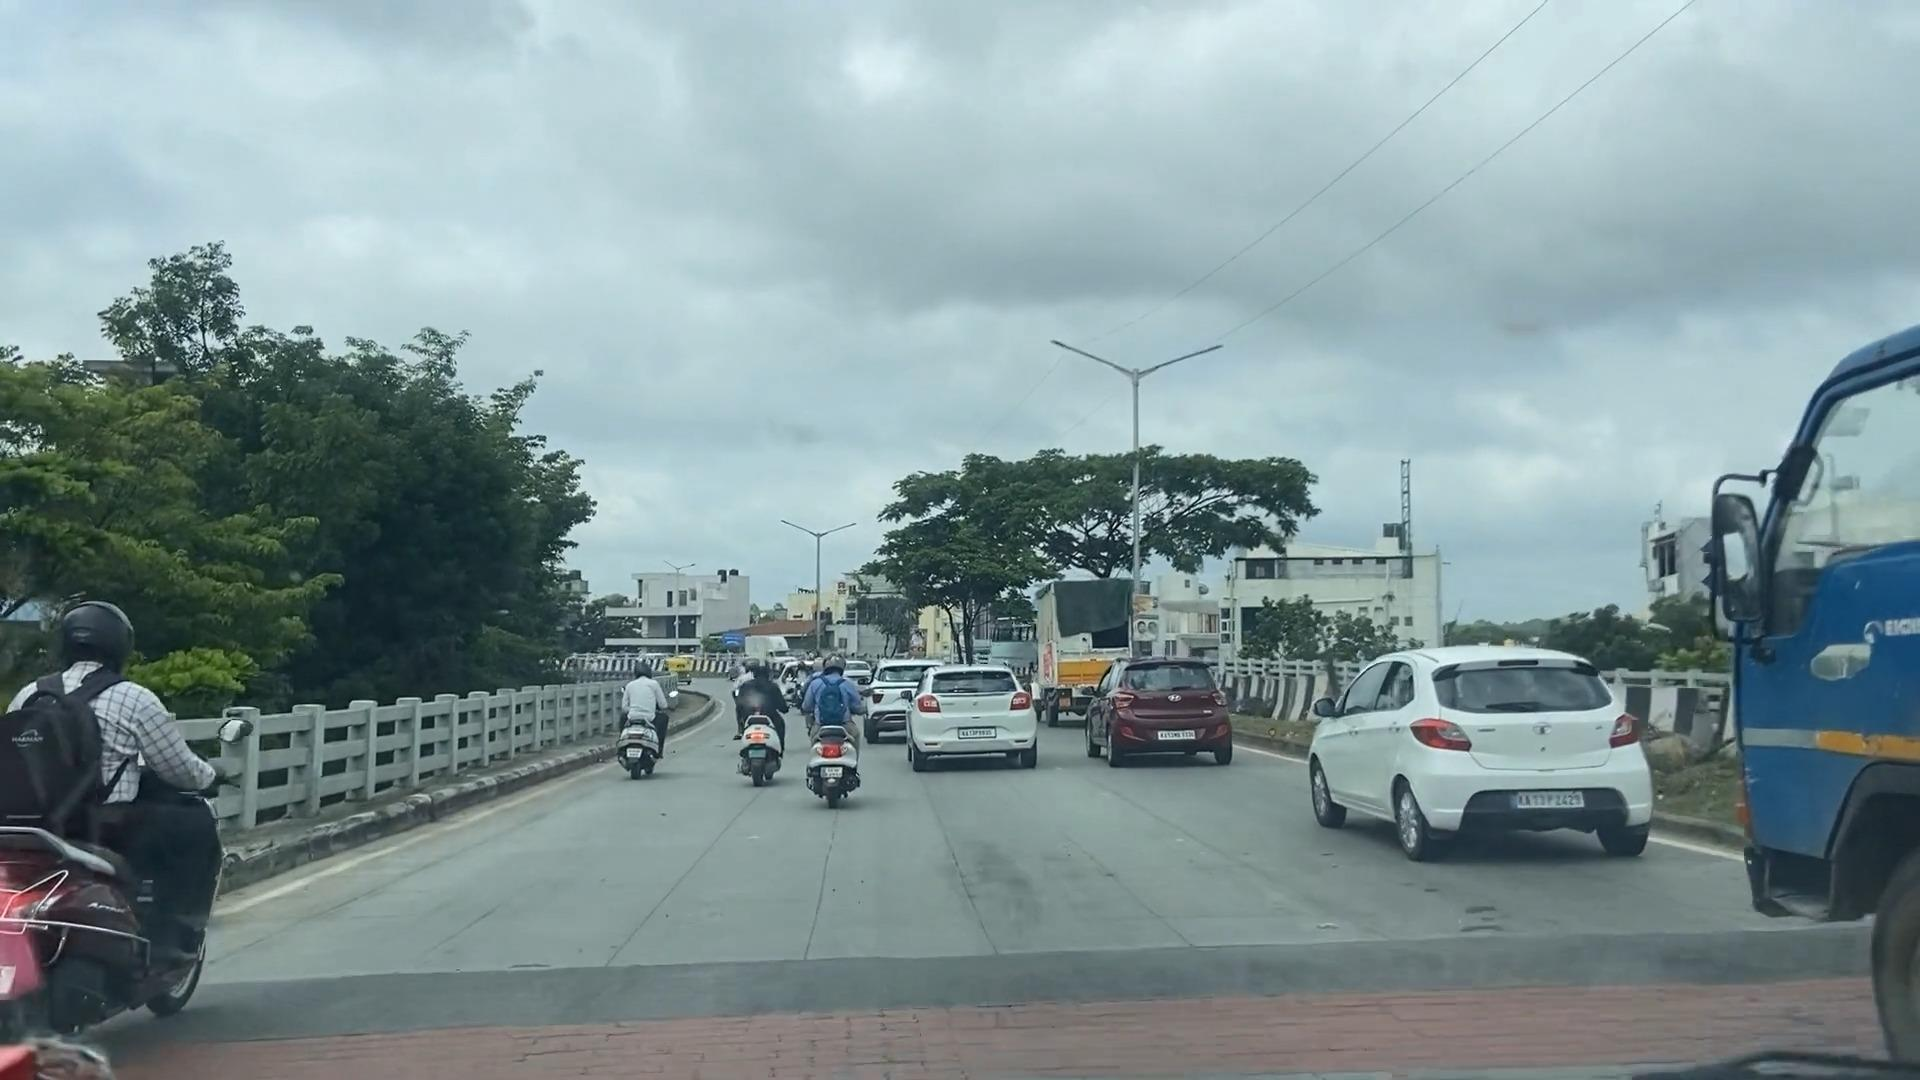LMV: (18, 620, 220, 1010), (1389, 638, 1640, 847), (1106, 647, 1222, 761), (910, 655, 1026, 764), (604, 651, 682, 789), (723, 646, 786, 794), (810, 640, 856, 802)
